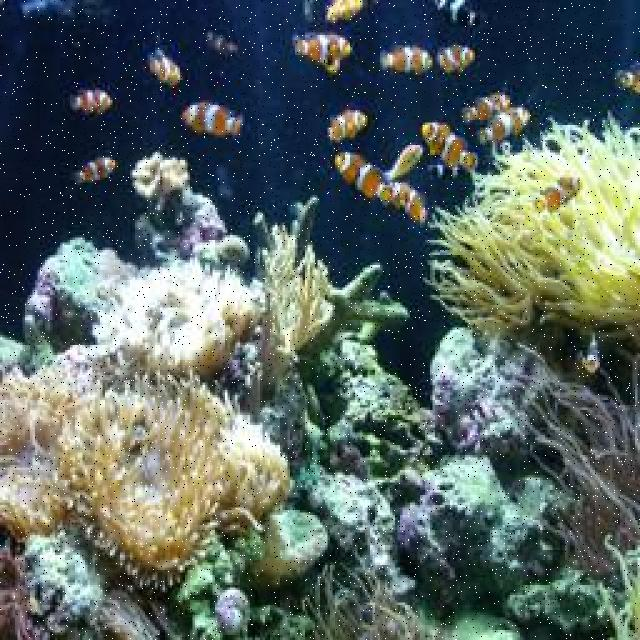fish: (422, 121, 479, 171), (293, 30, 352, 72), (183, 101, 244, 139), (335, 153, 382, 199), (533, 177, 584, 215), (380, 43, 432, 76), (382, 145, 423, 182), (328, 108, 369, 144), (70, 86, 113, 119), (73, 157, 114, 182)
reefs: (0, 365, 296, 594), (421, 108, 638, 346), (94, 254, 263, 379)
